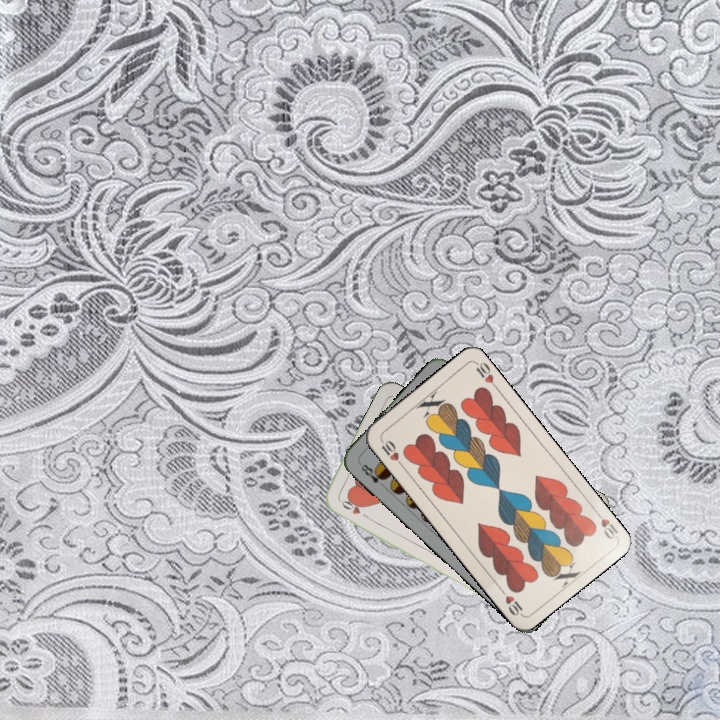E8: (355, 459, 389, 491)
H10: (590, 506, 621, 542), (377, 435, 406, 470)
HO: (335, 496, 372, 522)
